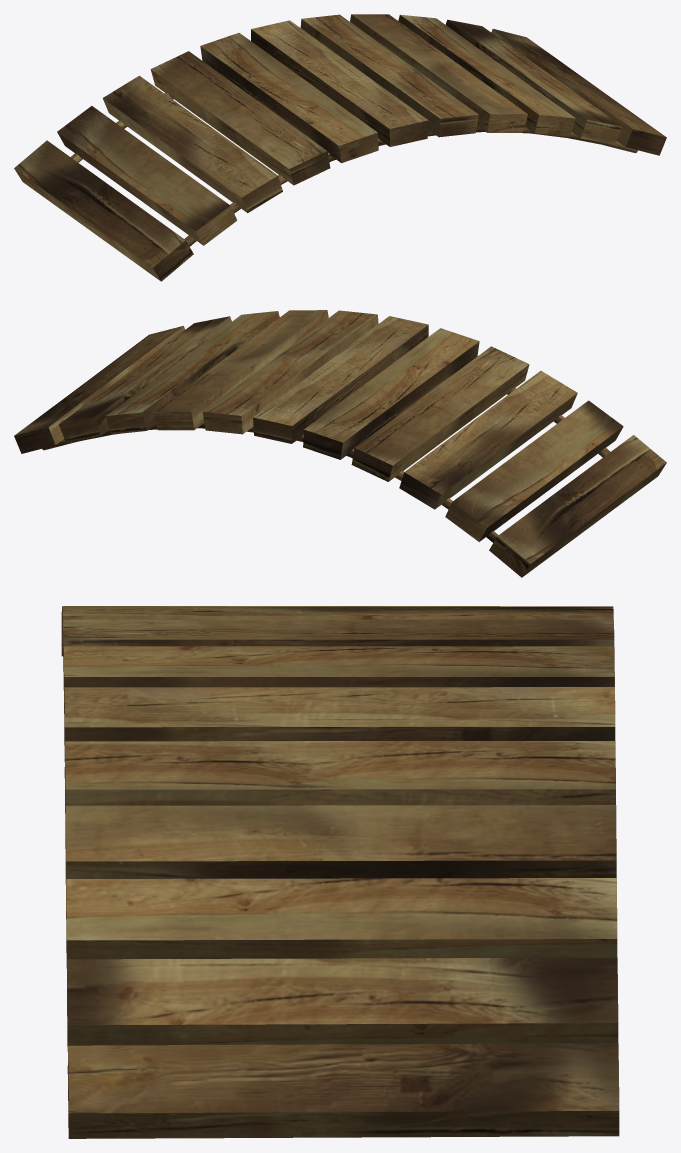
File: AssetsWt.fbx
3 renders of one model, top to bottom at view 1: azimuth 30°, elevation 25°; view 2: azimuth 150°, elevation 25°; view 3: azimuth 270°, elevation 25°, orthographic. The views are drawn at different scales.
Parts seen in each view (by area): view 1: Bridge; view 2: Bridge; view 3: Bridge.
Part boxes in pixels (box(x1,y1,x2,y2)): Bridge: box(14, 14, 666, 281); Bridge: box(14, 310, 666, 577); Bridge: box(61, 606, 619, 1138).
Size of the model in its own units: 247 by 44.18 by 115.
